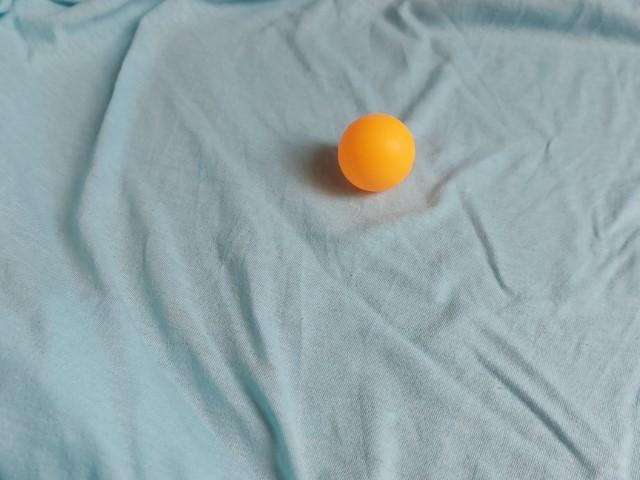oball: (329, 108, 421, 201)
